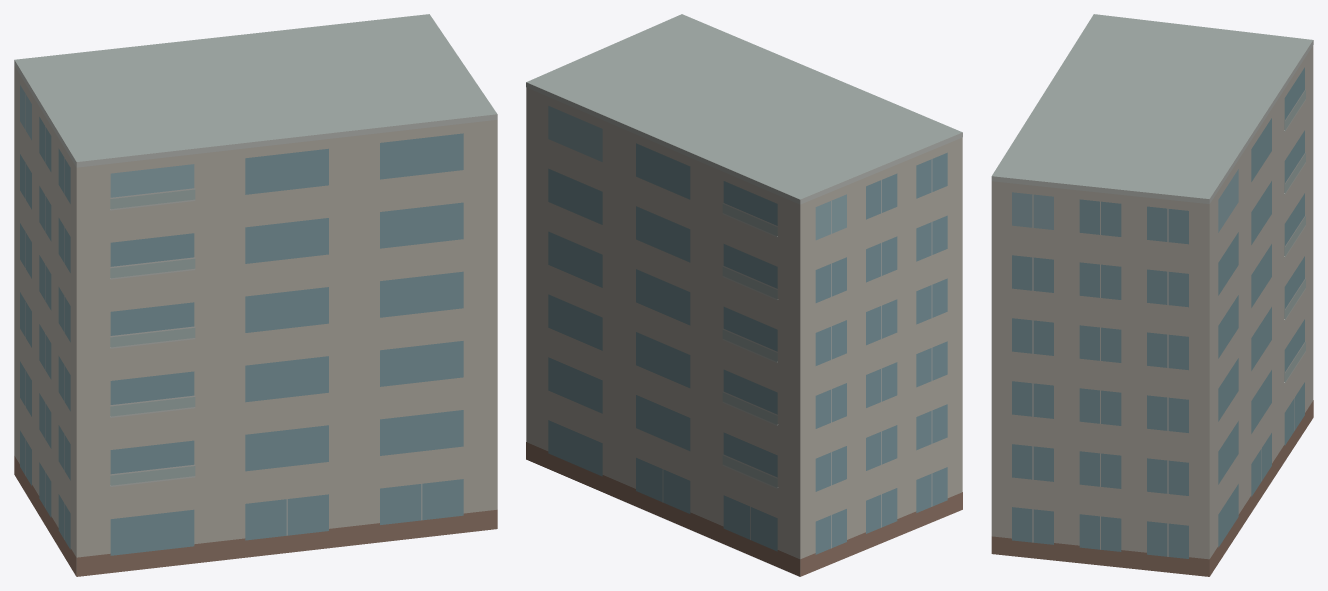
The model's file is survey-upis-32741693.glb.
3 renders of one model, left to right at view 1: azimuth 30°, elevation 25°; view 2: azimuth 150°, elevation 25°; view 3: azimuth 270°, elevation 25°, orthographic. The views are drawn at different scales.
Parts seen in each view (by area): view 1: survey-upis-32741693.tmp; view 2: survey-upis-32741693.tmp; view 3: survey-upis-32741693.tmp.
Part boxes in pixels (left/top/right/bottom): survey-upis-32741693.tmp: left=14, top=14, right=497, bottom=576; survey-upis-32741693.tmp: left=526, top=14, right=962, bottom=576; survey-upis-32741693.tmp: left=991, top=14, right=1313, bottom=576.
Size of the model in its own units: 19.24 by 18.3 by 14.14.
